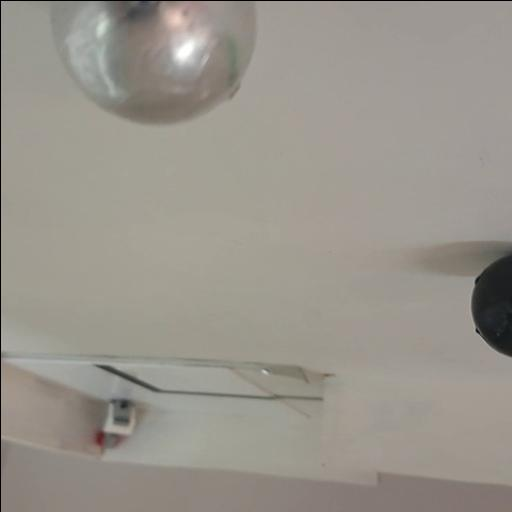alive: (44, 0, 260, 136)
dead: (463, 246, 512, 364)
